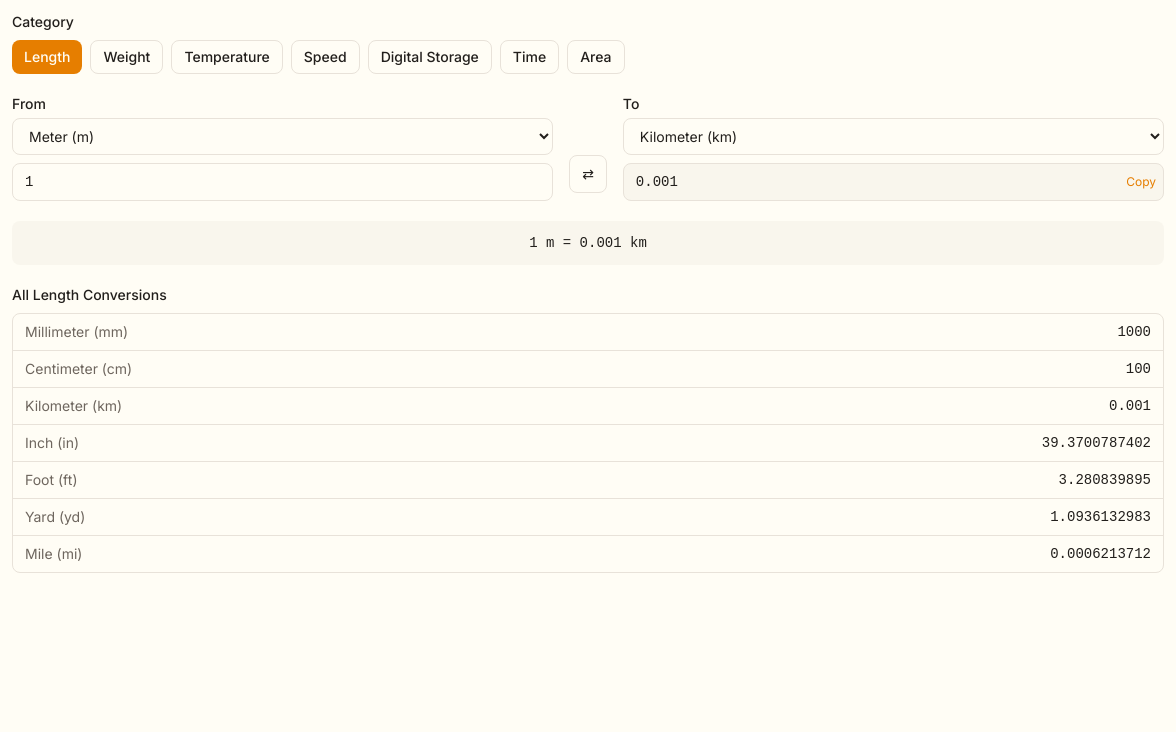
UnitConverter › swaps from and to units
This screenshot has width=1176, height=732.
Click the button named "Swap units": (588, 174) [569,155,607,193]
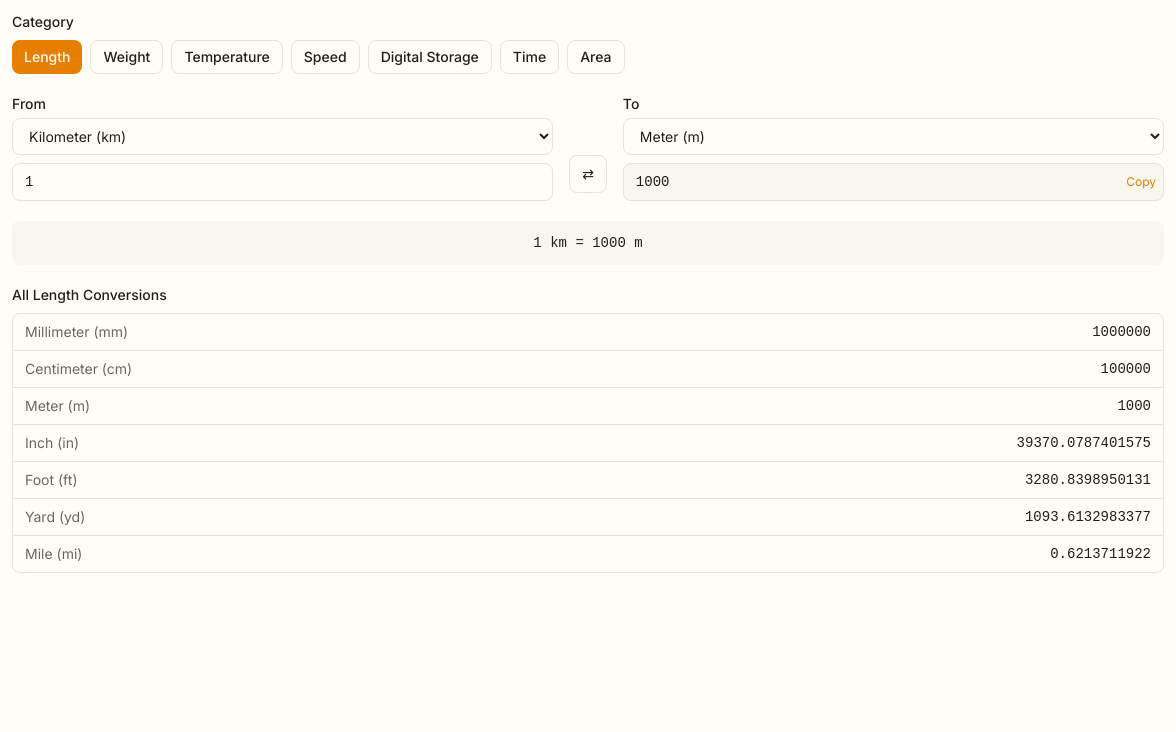
Now the dropdown named "From unit" shows "Kilometer (km)", box [12,118,553,155]
Now the dropdown named "To unit" shows "Meter (m)", box [623,118,1164,155]
